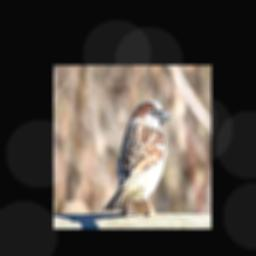Sparrow: (103, 99, 171, 216)
